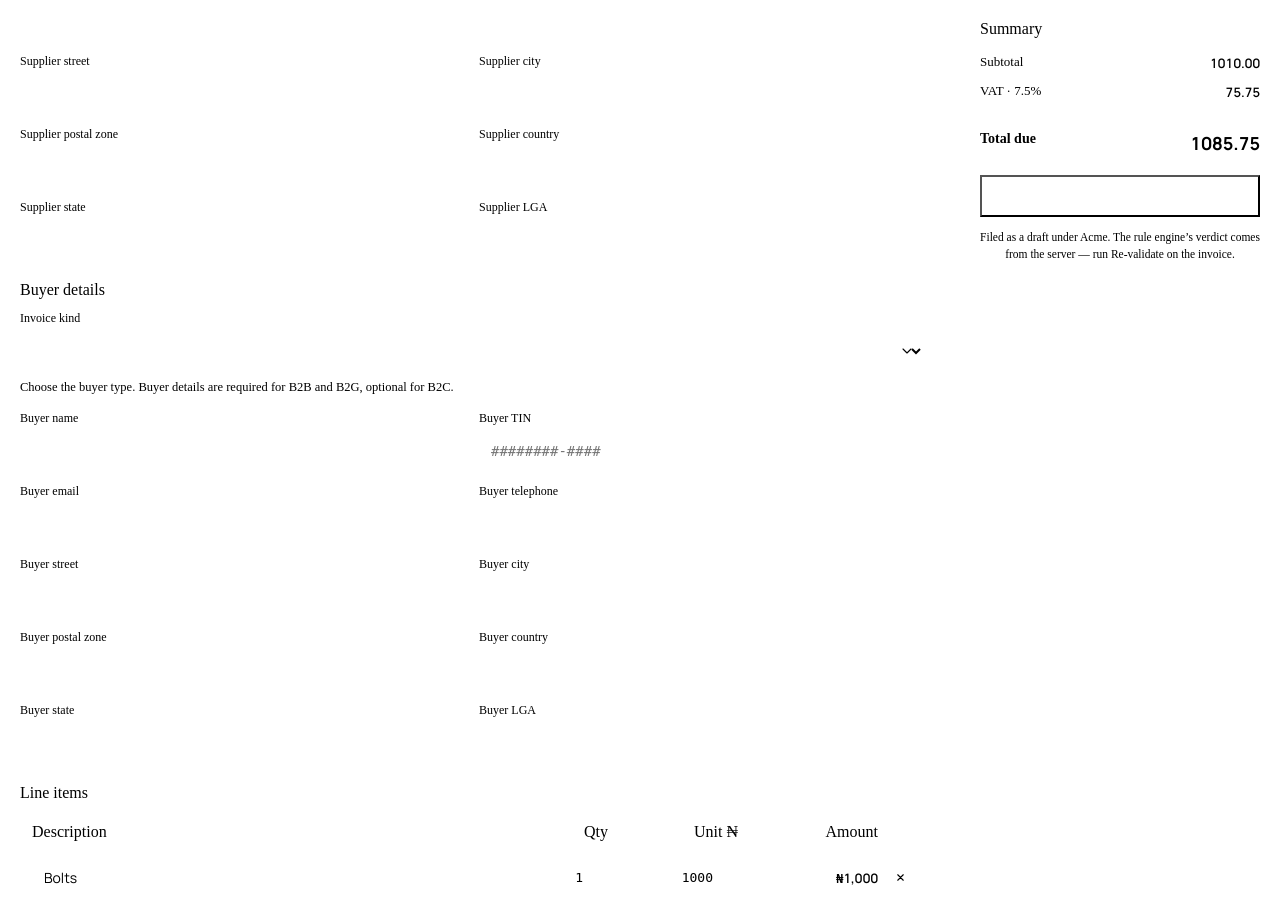
Test: CreateForm buyer lookup › createForm_knownTinFillsTheBuyer
The width and height of the screenshot is (1280, 900).
(page scrolled)
In the field with placeholder "########-####": (702, 450) top-left (479, 432), bottom-right (924, 470), type "12345678-0001"
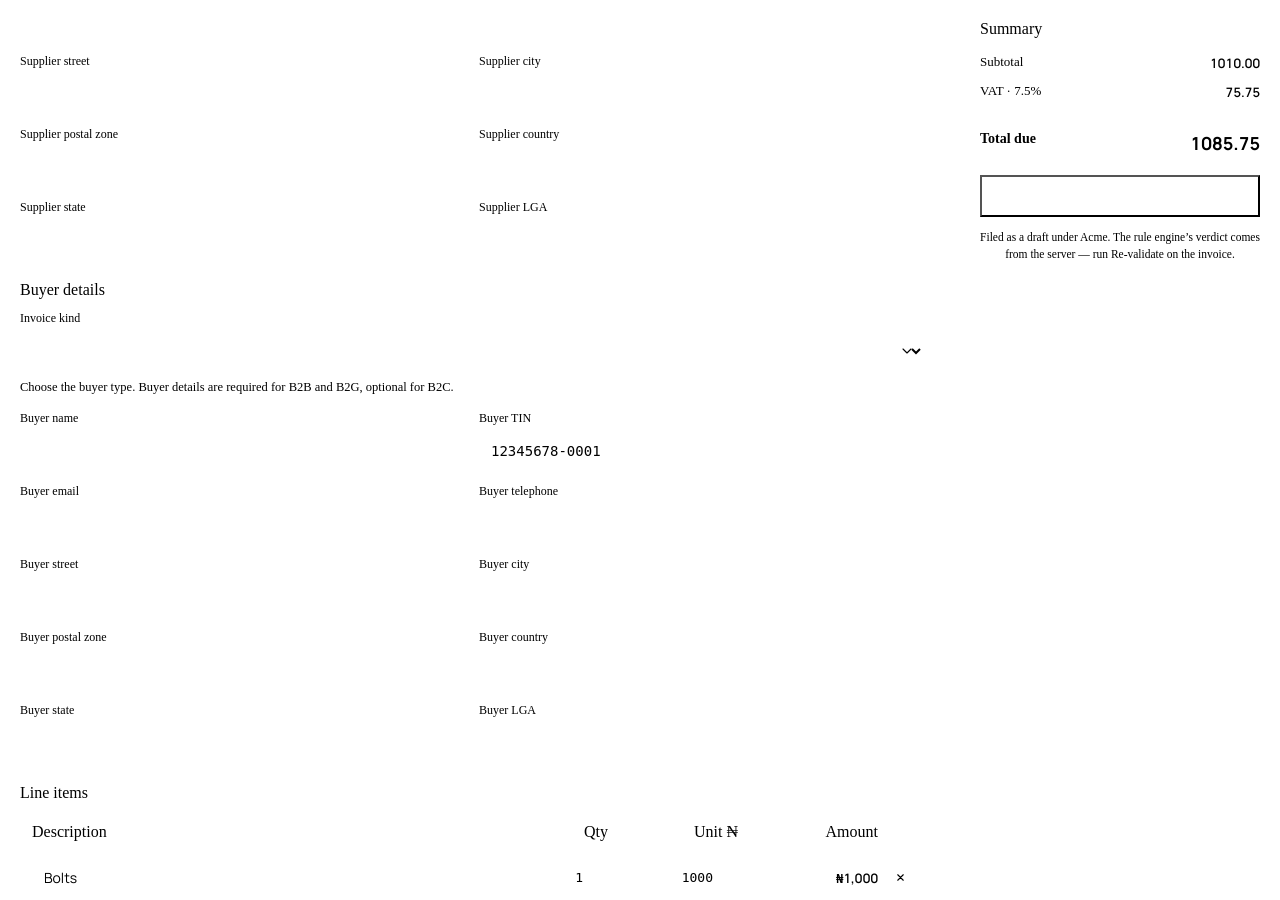
Leave the field with placeholder "########-####" below "Buyer TIN", box top-left (479, 432), bottom-right (924, 470)
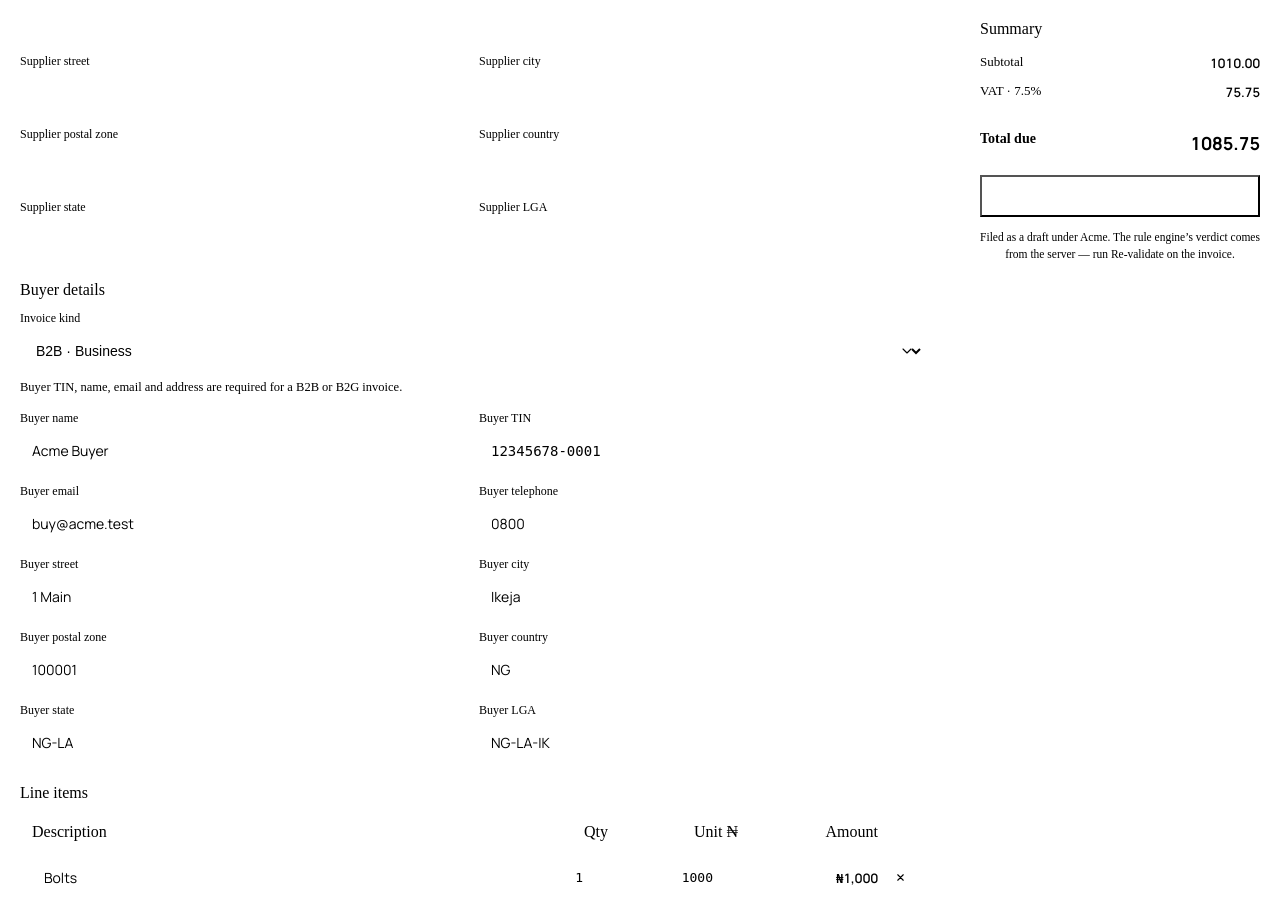
Result: the dropdown named "Invoice kind" shows "B2B · Business" at top-left (20, 332), bottom-right (924, 370)
Result: the field named "Buyer email" holds "buy@acme.test" at top-left (20, 504), bottom-right (465, 542)
Result: the field named "Buyer LGA" holds "NG-LA-IK" at top-left (479, 724), bottom-right (924, 762)
